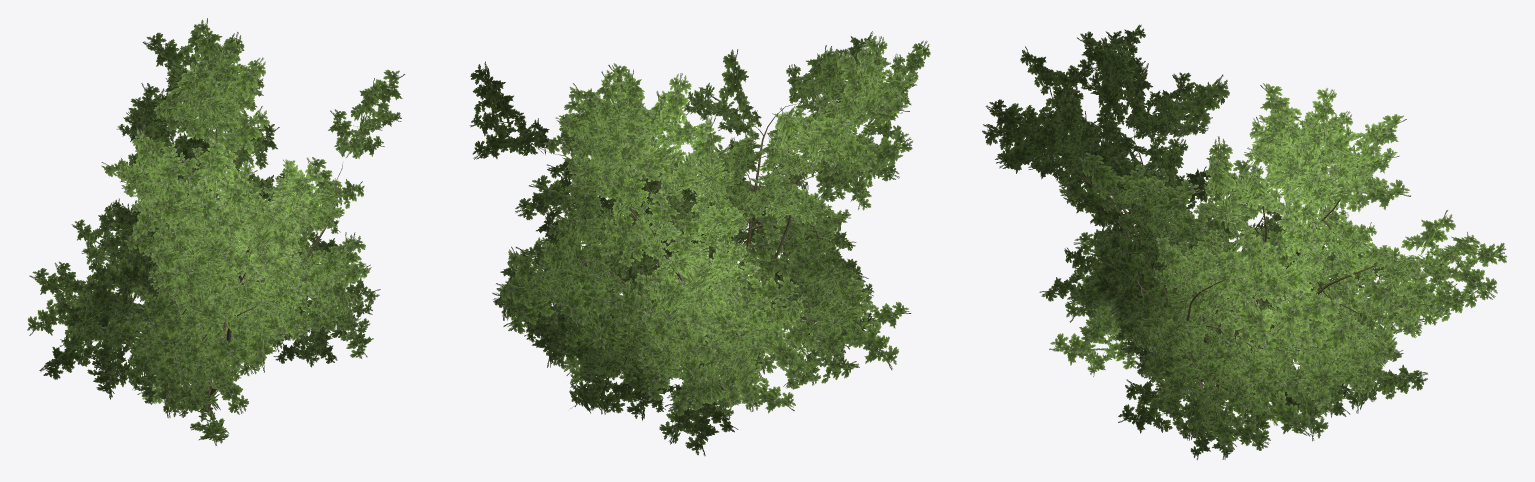
File: tree_bush_a_lod0.glb
3 views of the same model, side by side, from view 1: azimuth 30°, elevation 25°; view 2: azimuth 150°, elevation 25°; view 3: azimuth 270°, elevation 25° (orthographic). The views are drawn at different scales.
Visible parts, largest first — view 1: bush_a; view 2: bush_a; view 3: bush_a.
Boxes of the visible parts, <box> form: bush_a: <box>27,18,405,445</box>; bush_a: <box>469,31,930,455</box>; bush_a: <box>982,24,1507,459</box>.
Bounding box in the file's own units: 1.98 × 1.76 × 2.18.
Materials: 2 (2 with a texture image).
